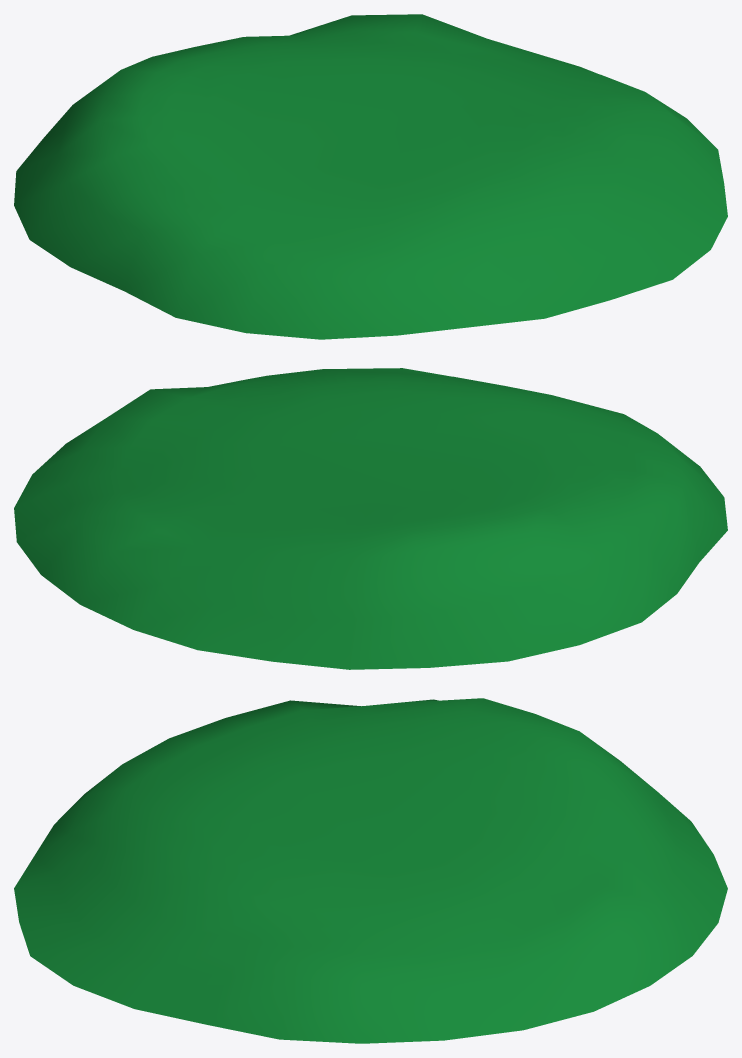
File: GF_Hill_1.fbx
3 renders of one model, top to bottom at view 1: azimuth 30°, elevation 25°; view 2: azimuth 150°, elevation 25°; view 3: azimuth 270°, elevation 25°, orthographic. The views are drawn at different scales.
Parts seen in each view (by area): view 1: GF_Hill_1; view 2: GF_Hill_1; view 3: GF_Hill_1.
Boxes of the visible parts, x1,y1,x2,y2 form: GF_Hill_1: (14,14,727,339); GF_Hill_1: (14,368,727,669); GF_Hill_1: (14,698,727,1043).
Size of the model in its own units: 6.65 by 0.8844 by 6.52.
